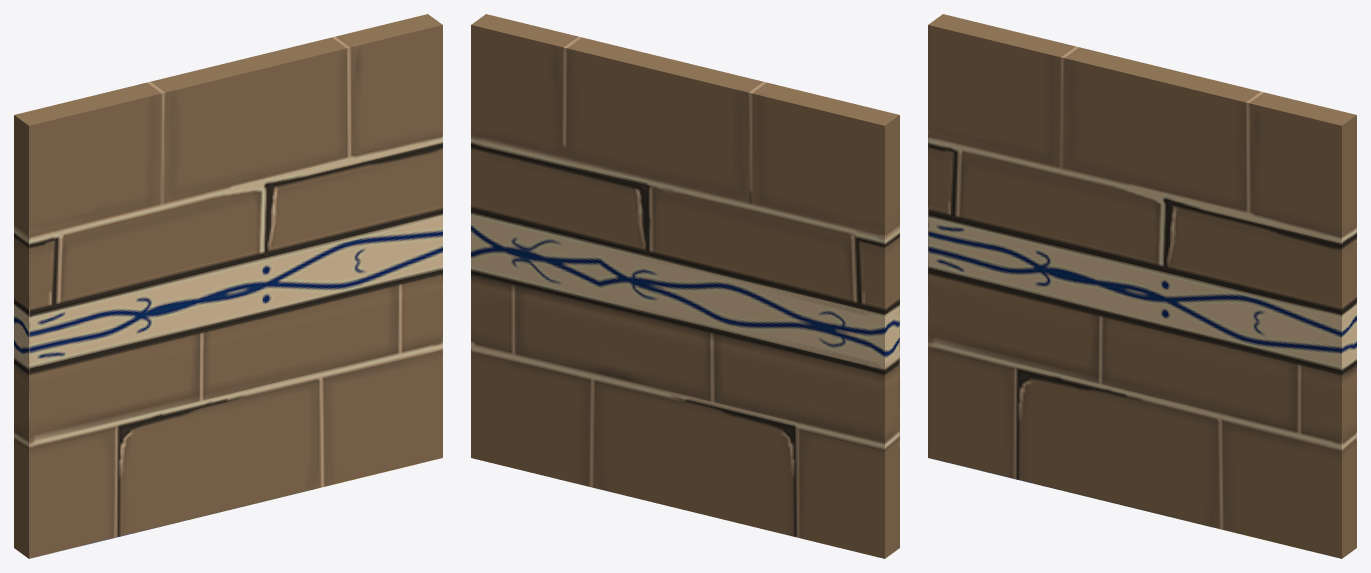
File: egypt_wall2.gltf
The picture shows the model from 3 angles, left to right: view 1: azimuth 30°, elevation 25°; view 2: azimuth 150°, elevation 25°; view 3: azimuth 330°, elevation 25°; orthographic projection.
Visible parts, largest first — view 1: egypt_wall2_glb; view 2: egypt_wall2_glb; view 3: egypt_wall2_glb.
Part boxes in pixels (x1,y1,x2,y2): egypt_wall2_glb: [14, 14, 442, 558]; egypt_wall2_glb: [471, 14, 899, 558]; egypt_wall2_glb: [928, 14, 1356, 558].
Size of what is drawn, in the model's own units: 4 by 4 by 0.25.
Materials: 1 (1 with a texture image).
